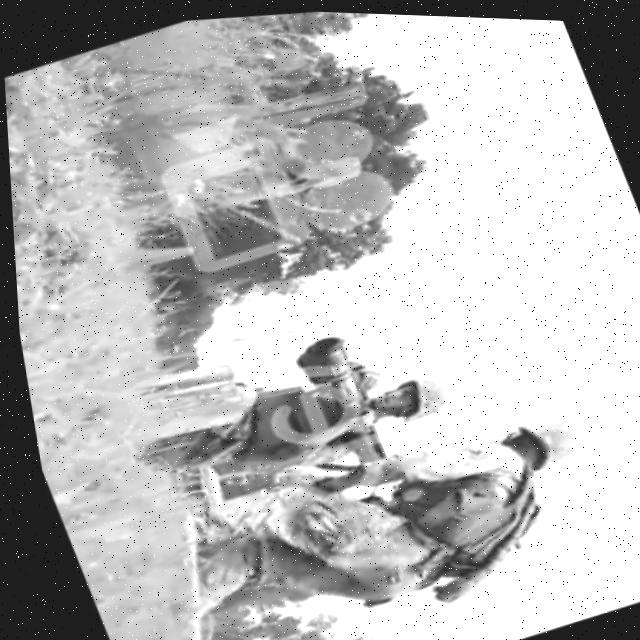rocket: (287, 321, 397, 473)
